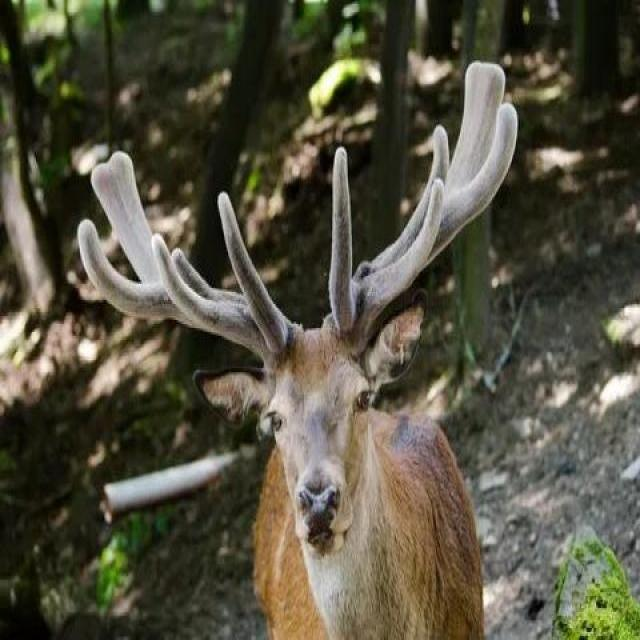deer: (70, 101, 530, 635)
